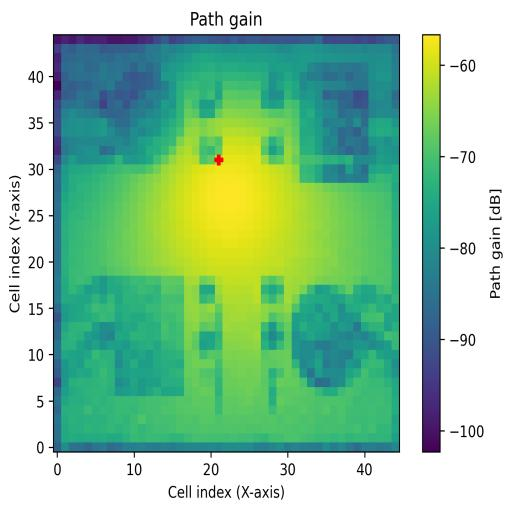Concrete: (298, 61, 369, 184)
Glass: (79, 56, 184, 164)
Metal: (292, 285, 385, 388)
Wood: (114, 276, 184, 396)
